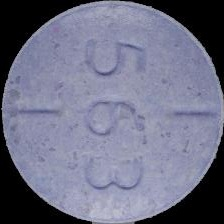51138-053: (0, 0, 224, 224)
